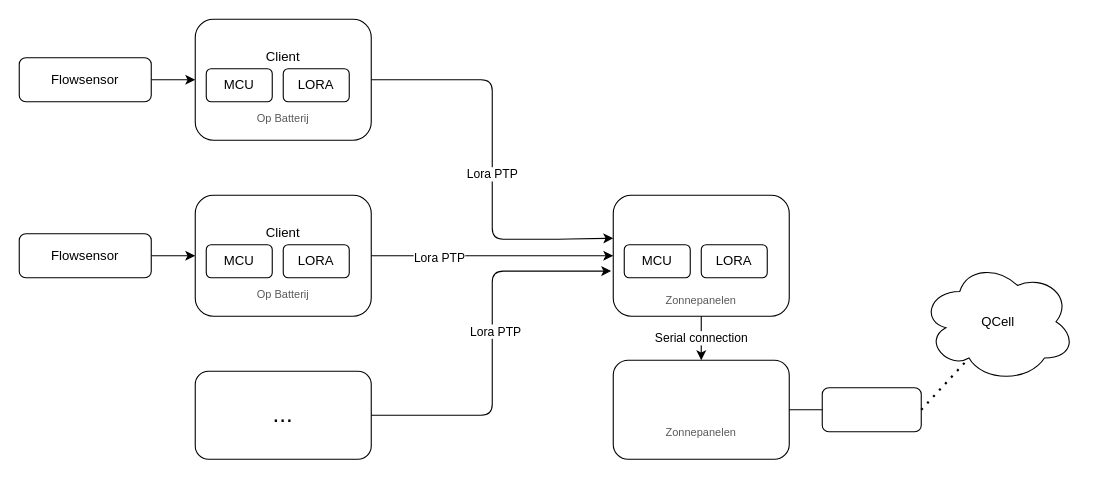
The diagram is 1095 pixels wide and 479 high, and some of its shapes have lost their labels. Here are the shapes that lost their labels. From the top down, the box of each, then its label:
(612, 194, 789, 316): Receiver
(612, 359, 789, 459): RPI Server
(821, 387, 921, 432): GPRS
